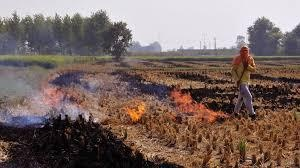fire: (8, 69, 98, 124), (166, 87, 229, 121), (121, 98, 148, 122)
